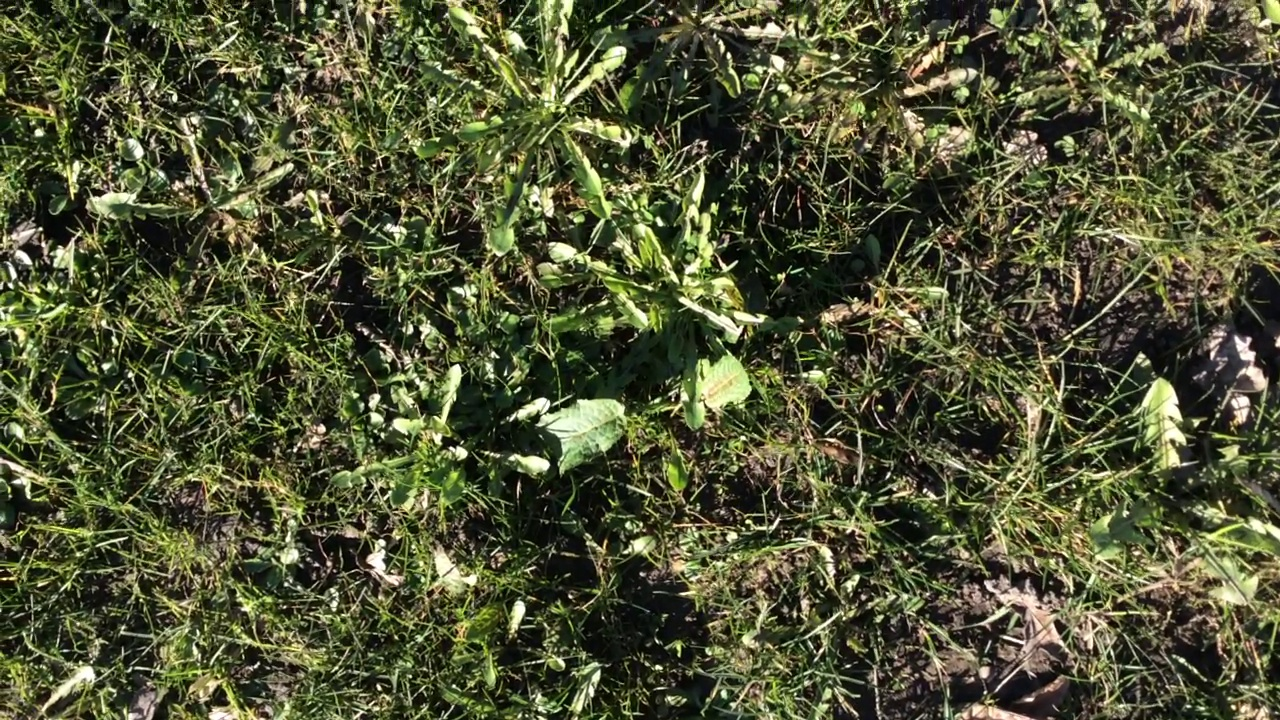rumex: (523, 399, 627, 470), (686, 356, 752, 409)
